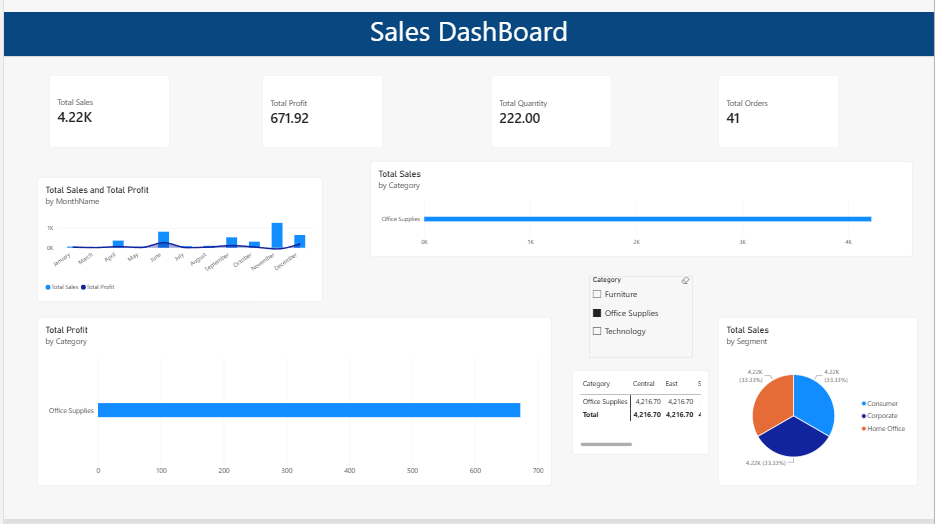

Layout of this report page (visuals, bound fields, positions):
{"tool":"powerbi","page":{"name":"Page 1","canvas":[1920,1080],"ordinal":0},"visuals":[{"type":"textbox","box":[0,35.1,1920,90.8],"z":0},{"type":"cardVisual","fields":{"Data":["Measure.Total Sales"]},"box":[92.9,165.2,249.8,150.7],"z":1000},{"type":"cardVisual","fields":{"Data":["Measure.Total Profit"]},"box":[532.6,165.2,250,151],"z":2000},{"type":"cardVisual","fields":{"Data":["Measure.Total Quantity"]},"box":[1005.4,165.2,250,151],"z":3000},{"type":"cardVisual","fields":{"Data":["Measure.Total Orders"]},"box":[1474.1,165.2,250,151],"z":4000},{"type":"lineStackedColumnComboChart","fields":{"Category":["date.MonthName"],"Y":["Measure.Total Sales"],"Y2":["Measure.Total Profit"]},"box":[68.1,375.7,590.5,258.1],"z":5000},{"type":"clusteredBarChart","fields":{"Category":["product.Category"],"Y":["Measure.Total Sales"]},"box":[755,342.5,1121,198.2],"z":6000},{"type":"clusteredBarChart","fields":{"Category":["product.Category"],"Y":["Measure.Total Profit"]},"box":[68.1,664.8,1063.2,348.9],"z":7000},{"type":"pieChart","fields":{"Category":["superstore_raw.Segment"],"Y":["Measure.Total Sales"]},"box":[1474.1,664.8,412.9,348.9],"z":8000},{"type":"slicer","fields":{"Values":["product.Category"]},"box":[1207.5,580,215,170],"z":8001},{"type":"pivotTable","fields":{"Columns":["superstore_raw.Region"],"Rows":["product.Category"],"Values":["Measure.Total Sales"]},"box":[1172.5,775,282.5,175],"z":8002}]}

Visuals, with their boxes in screenshot pixels (x1, y1, x2, y2), scaled from the page's 1920x1080 canvas onto the 938x524 screenshot:
textbox: 0/17/937/61
cardVisual - Measure.Total Sales: 45/80/167/153
cardVisual - Measure.Total Profit: 260/80/382/153
cardVisual - Measure.Total Quantity: 491/80/613/153
cardVisual - Measure.Total Orders: 720/80/842/153
lineStackedColumnComboChart - date.MonthName x Measure.Total Sales: 33/182/322/308
clusteredBarChart - product.Category x Measure.Total Sales: 369/166/917/262
clusteredBarChart - product.Category x Measure.Total Profit: 33/323/553/492
pieChart - superstore_raw.Segment x Measure.Total Sales: 720/323/922/492
slicer - product.Category: 590/281/695/364
pivotTable - superstore_raw.Region x product.Category: 573/376/711/461
